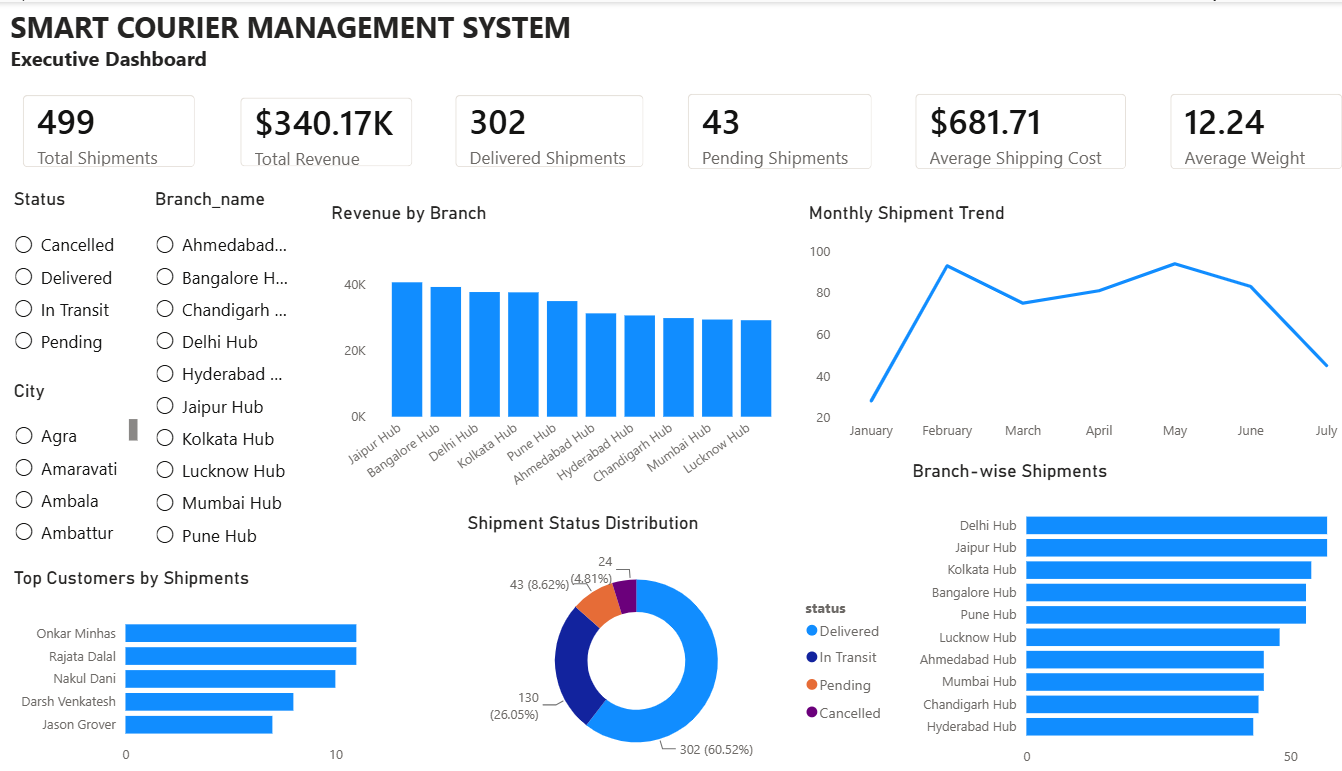

What the dashboard file says about the page in this screenshot:
{"tool":"powerbi","page":{"name":"Page 1","canvas":[1280,720],"ordinal":0},"visuals":[{"type":"cardVisual","fields":{"Data":["courierdb shipments.Total Shipments"]},"box":[17.8,70.2,195,101.8],"z":0},{"type":"cardVisual","fields":{"Data":["courierdb shipments.Total Revenue"]},"box":[219.3,71.6,194.3,98.9],"z":1000},{"type":"cardVisual","fields":{"Data":["courierdb shipments.Delivered Shipments"]},"box":[420.2,70.2,209.3,101.8],"z":2000},{"type":"cardVisual","fields":{"Data":["courierdb shipments.Pending Shipments"]},"box":[636,68.8,205,104.7],"z":3000},{"type":"cardVisual","fields":{"Data":["courierdb shipments.Average Shipping Cost"]},"box":[847.6,68.8,230.8,104.7],"z":4000},{"type":"cardVisual","fields":{"Data":["courierdb shipments.Average Weight"]},"box":[1085,68.8,195,104.7],"z":5000},{"type":"donutChart","title":"Shipment Status Distribution","fields":{"Category":["courierdb shipments.status"],"Y":["CountNonNull(courierdb shipments.shipment_id)"]},"box":[443,474.6,404.3,245.2],"z":6000},{"type":"clusteredBarChart","title":"Branch-wise Shipments","fields":{"Category":["courierdb branches.branch_name"],"Y":["CountNonNull(courierdb shipments.shipment_id)"]},"box":[856.7,425.9,417.5,294.4],"z":7000},{"type":"clusteredColumnChart","title":"Revenue by Branch","fields":{"Category":["courierdb branches.branch_name"],"Y":["Sum(courierdb shipments.shipping_cost)"]},"box":[316.1,185.8,434.4,278.7],"z":8000},{"type":"barChart","title":"Top Customers by Shipments","fields":{"Category":["courierdb customers.customer_name"],"Y":["CountNonNull(courierdb shipments.shipment_id)"]},"box":[20.5,526.1,413.9,193.1],"z":9000},{"type":"lineChart","title":"Monthly Shipment Trend","fields":{"Category":["courierdb shipments.booking_date.Variation.Date Hierarchy.Month"],"Y":["CountNonNull(courierdb shipments.shipment_id)"]},"box":[760.2,185.8,520.1,230.5],"z":10000},{"type":"listSlicer","title":"Status","fields":{"Values":["courierdb shipments.status"]},"box":[20.5,173.8,125.5,167.7],"z":11000},{"type":"listSlicer","title":"Branch_name","fields":{"Values":["courierdb branches.branch_name"]},"box":[152,173.8,150.8,343.9],"z":12000},{"type":"listSlicer","title":"City","fields":{"Values":["courierdb customers.city"]},"box":[20.5,351.1,125.5,166.5],"z":13000},{"type":"textbox","box":[16.9,0,1257.3,67.6],"z":14000}]}

Visuals, with their boxes in screenshot pixels (x1, y1, x2, y2), scaled from the page's 1280x720 canvas onto the 1342x771 screenshot:
cardVisual - courierdb shipments.Total Shipments: (x1=19, y1=75, x2=223, y2=184)
cardVisual - courierdb shipments.Total Revenue: (x1=230, y1=77, x2=434, y2=183)
cardVisual - courierdb shipments.Delivered Shipments: (x1=441, y1=75, x2=660, y2=184)
cardVisual - courierdb shipments.Pending Shipments: (x1=667, y1=74, x2=882, y2=186)
cardVisual - courierdb shipments.Average Shipping Cost: (x1=889, y1=74, x2=1131, y2=186)
cardVisual - courierdb shipments.Average Weight: (x1=1138, y1=74, x2=1341, y2=186)
"Shipment Status Distribution" donutChart: (x1=464, y1=508, x2=888, y2=770)
"Branch-wise Shipments" clusteredBarChart: (x1=898, y1=456, x2=1336, y2=770)
"Revenue by Branch" clusteredColumnChart: (x1=331, y1=199, x2=787, y2=497)
"Top Customers by Shipments" barChart: (x1=21, y1=563, x2=455, y2=770)
"Monthly Shipment Trend" lineChart: (x1=797, y1=199, x2=1341, y2=446)
"Status" listSlicer: (x1=21, y1=186, x2=153, y2=366)
"Branch_name" listSlicer: (x1=159, y1=186, x2=317, y2=554)
"City" listSlicer: (x1=21, y1=376, x2=153, y2=554)
textbox: (x1=18, y1=0, x2=1336, y2=72)
